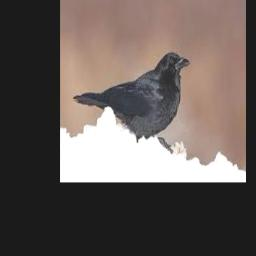Crow: (73, 52, 191, 156)
